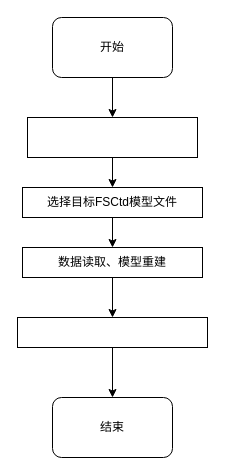
Image size: 225x475. Some labels were removed from this diagram. Here are the shapes that lost their labels. From the top down, the centre of each, then its label:
At pixel 112 137: "用户点击“导入FSCtd文件”".
At pixel 112 332: "另存为“HPM”文件".
